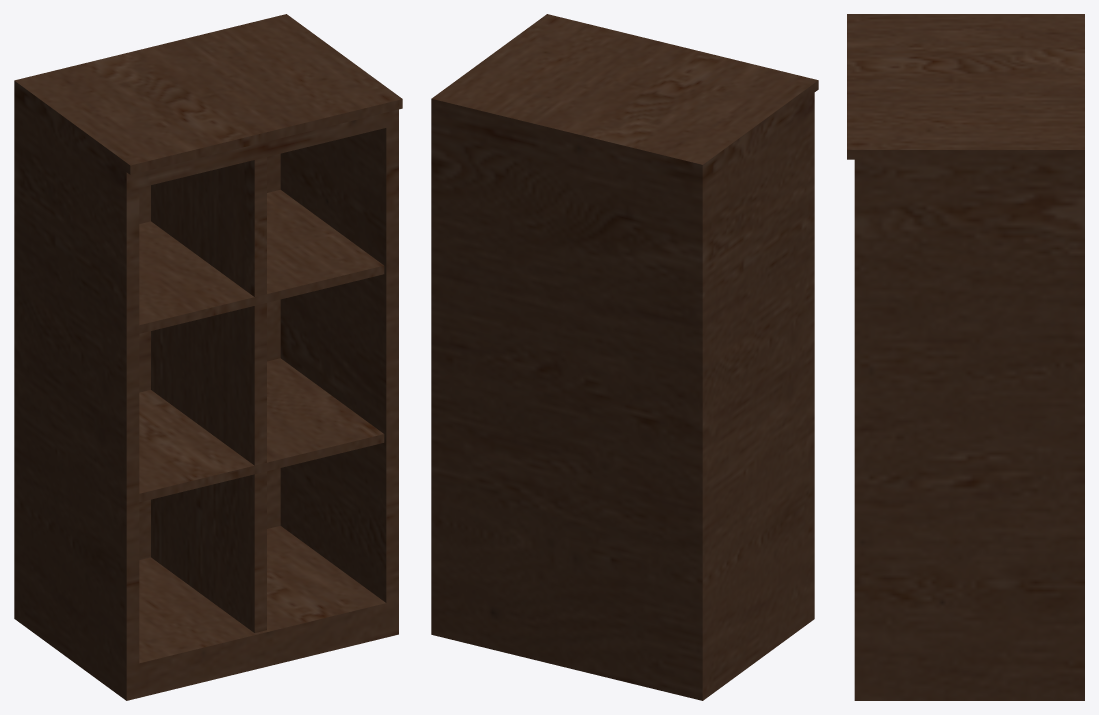
The model's file is Closet40.fbx.
The picture shows the model from 3 angles, left to right: view 1: azimuth 30°, elevation 25°; view 2: azimuth 150°, elevation 25°; view 3: azimuth 270°, elevation 25°; orthographic projection. The views are drawn at different scales.
Visible parts, largest first — view 1: Closet40; view 2: Closet40; view 3: Closet40.
Part boxes in pixels (left/top/right/bottom): Closet40: left=14, top=14, right=402, bottom=700; Closet40: left=431, top=14, right=818, bottom=700; Closet40: left=847, top=14, right=1084, bottom=700.
Size of the model in its own units: 62.2 by 117 by 45.95.
